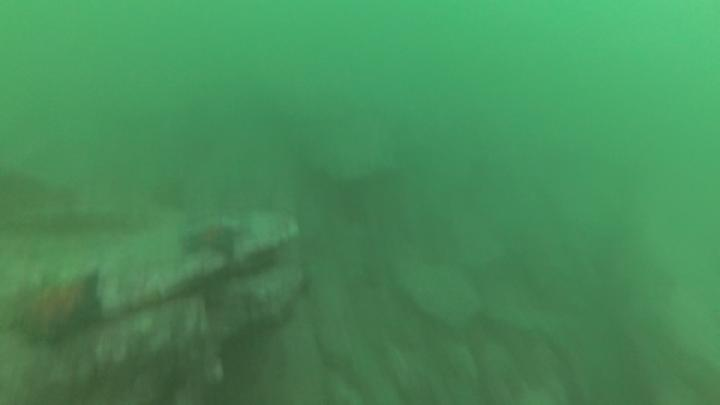starfish: (1, 269, 111, 351), (180, 223, 247, 263)
